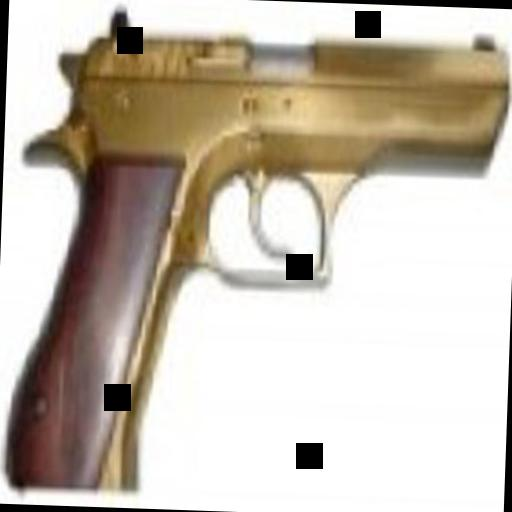Handgun: (3, 0, 512, 501)
